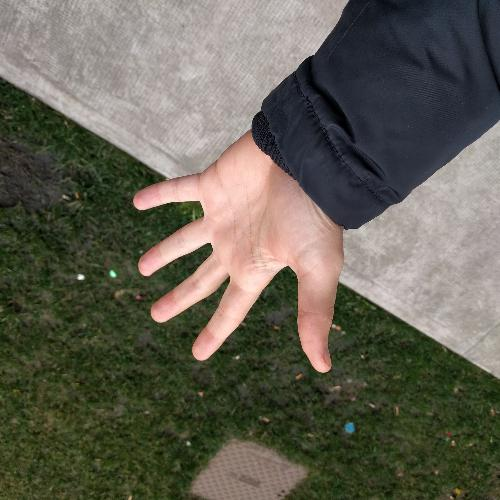paper: (127, 128, 350, 384)
